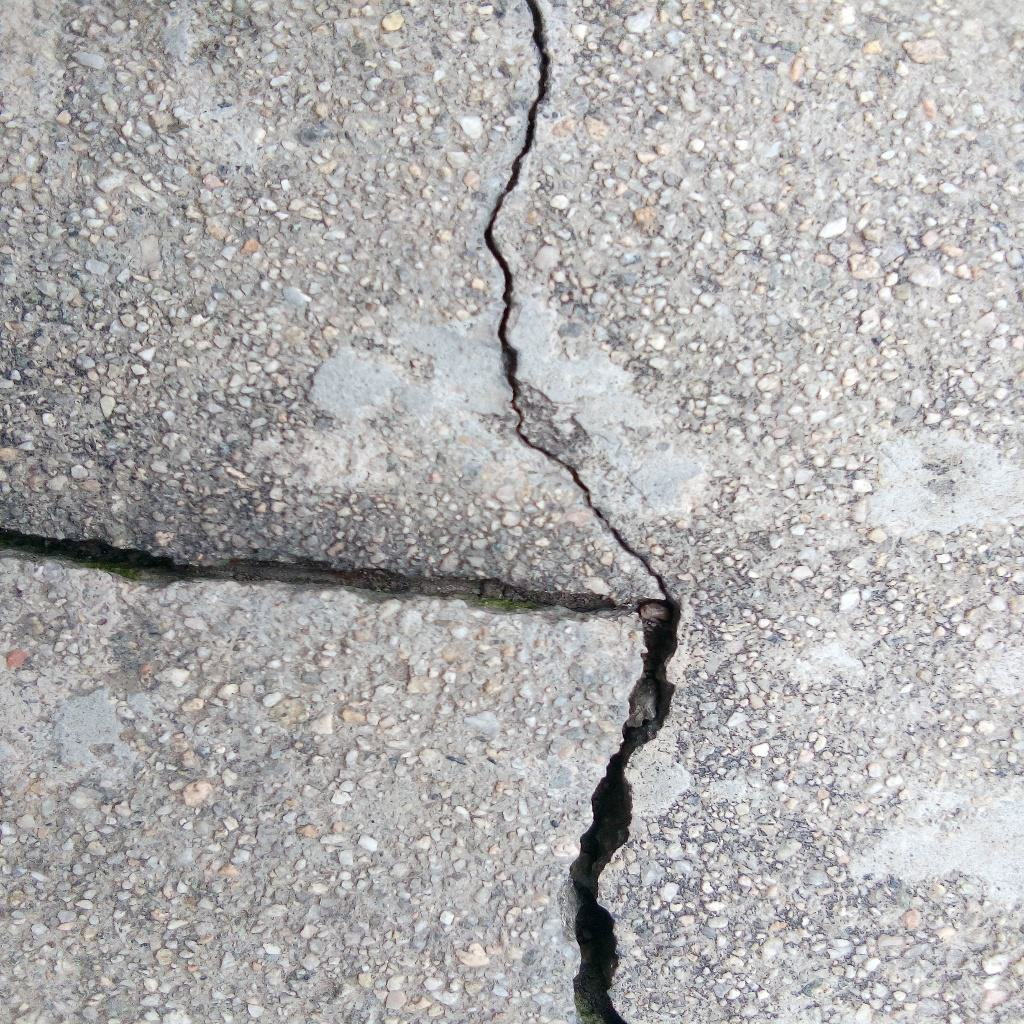Crack: (485, 1, 674, 606), (1, 527, 640, 621), (567, 604, 683, 1024)
